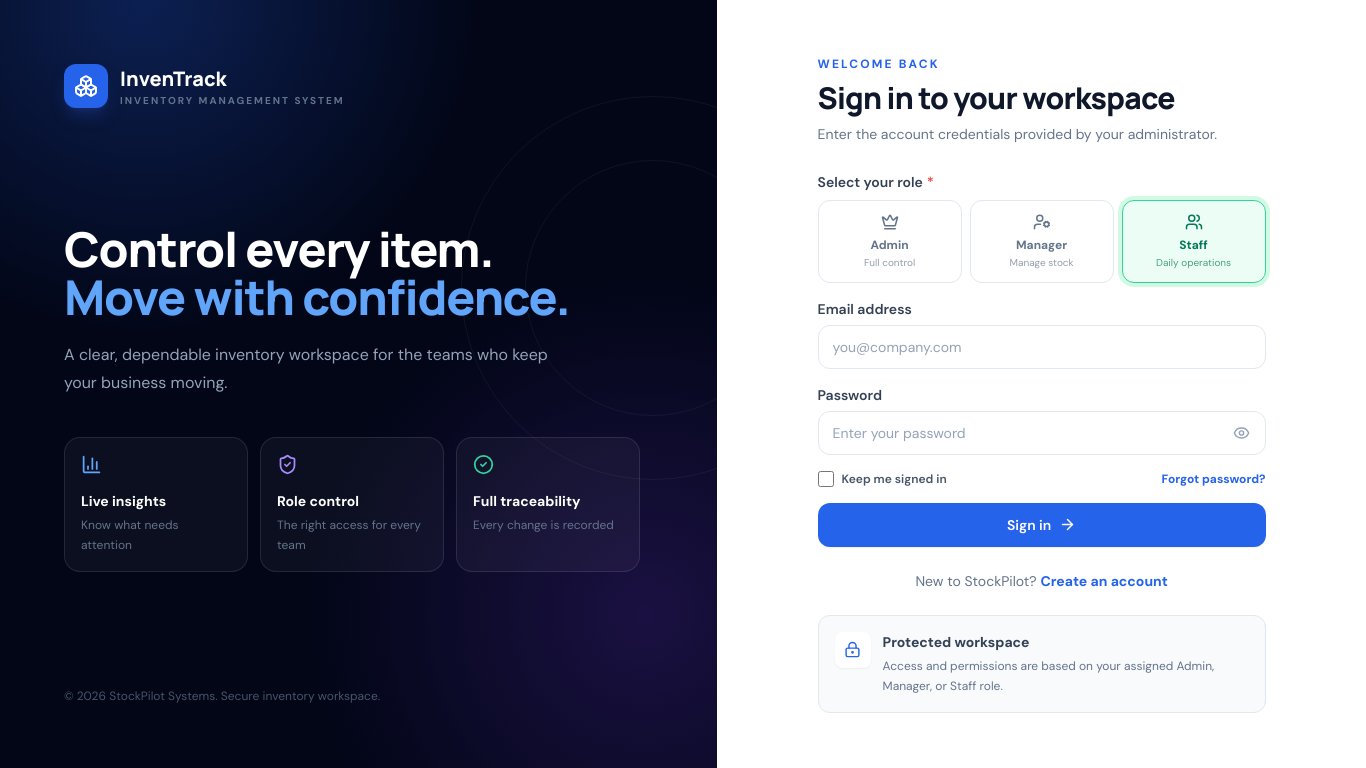
Test: StockPilot UI workflows › enforces Staff read-only catalog navigation
Expected: the heading "Sign in to your workspace" is shown, [818,76,1175,118]
Type "staff@ims.io" into the field labelled "Email address" at point(1042, 346), box [818,324,1266,368]
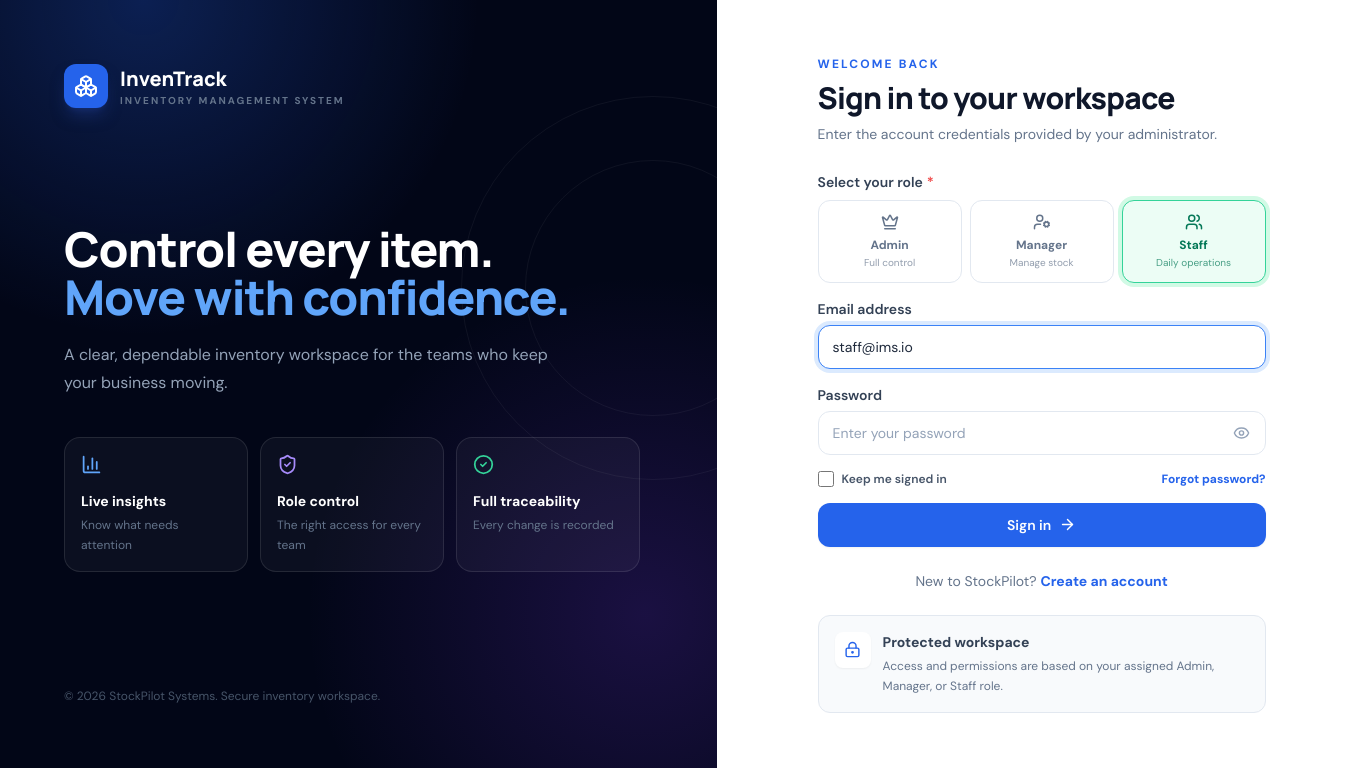
Type "staff123" into the password field labelled "Password" at point(1042, 432), box [818,410,1266,454]
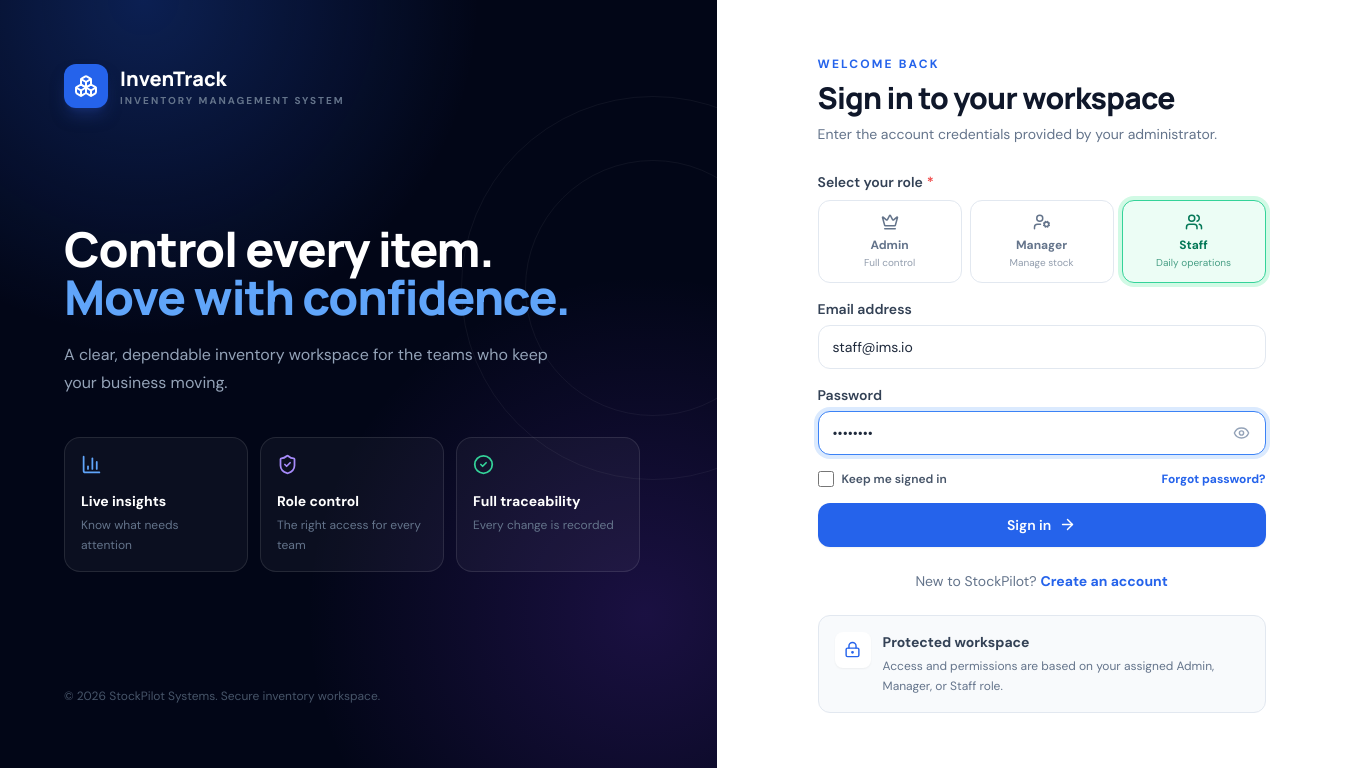
Click the checkbox labelled "Keep me signed in" at point(826, 478), box [818,470,834,486]
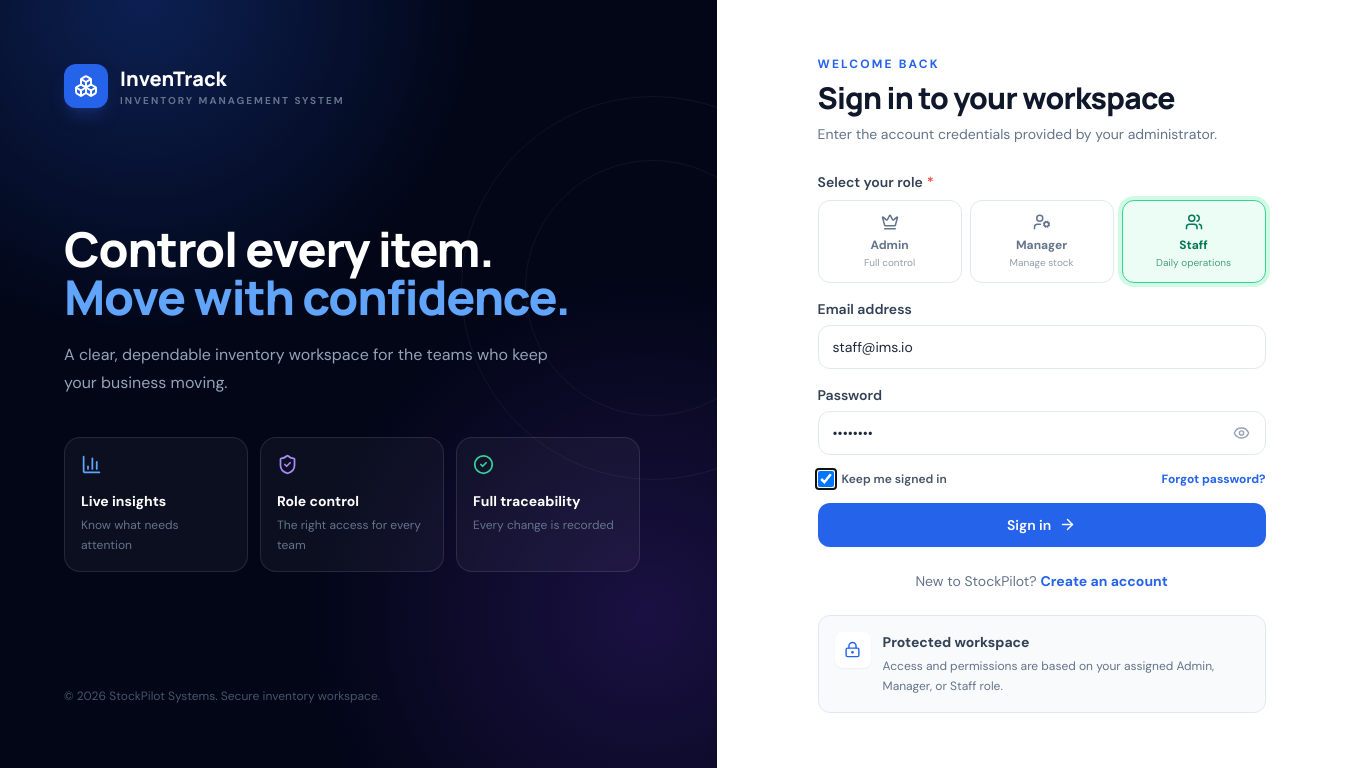
Click the button "Sign in" at point(1042, 524), box [818,502,1266,546]
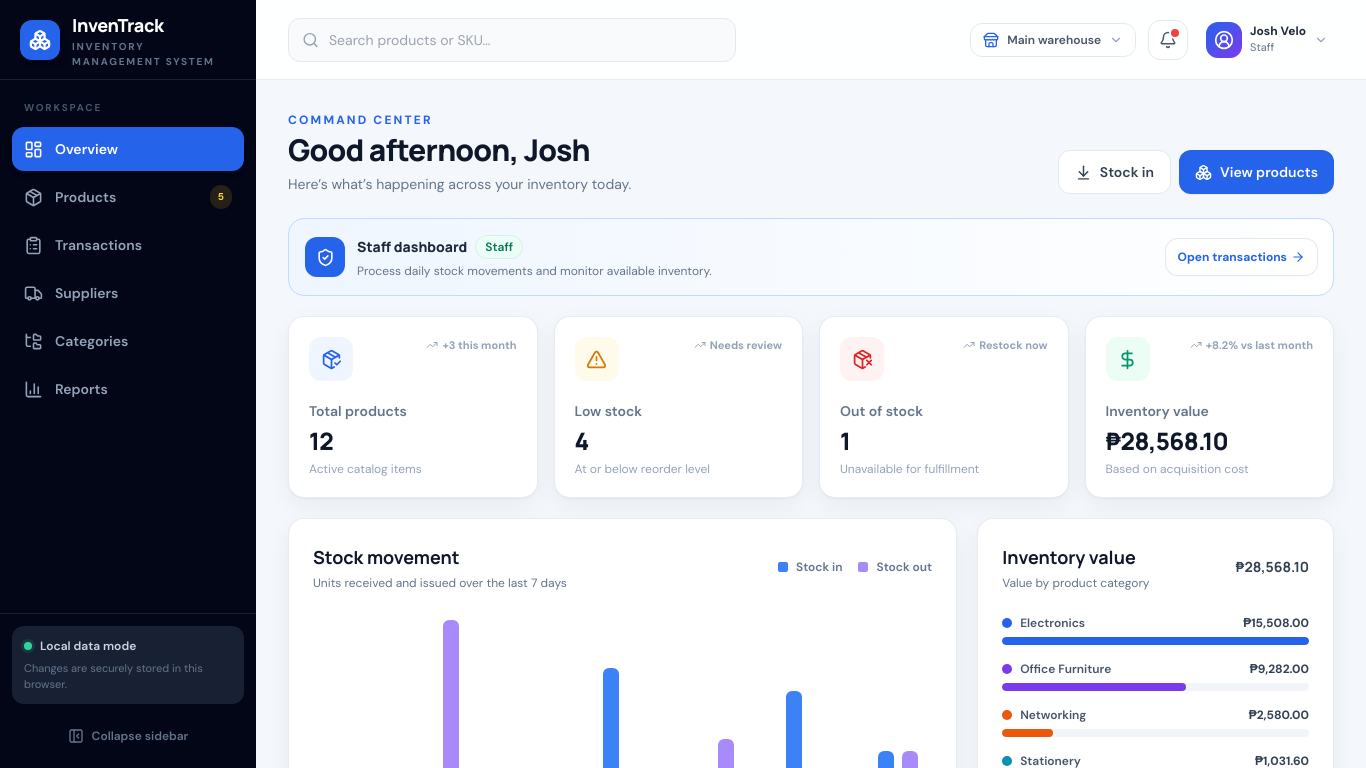
Expected: the heading "Good afternoon, Josh" is shown, [288,132,631,168]
Click the link "Products 5" at point(86, 197), box [24,185,232,209]
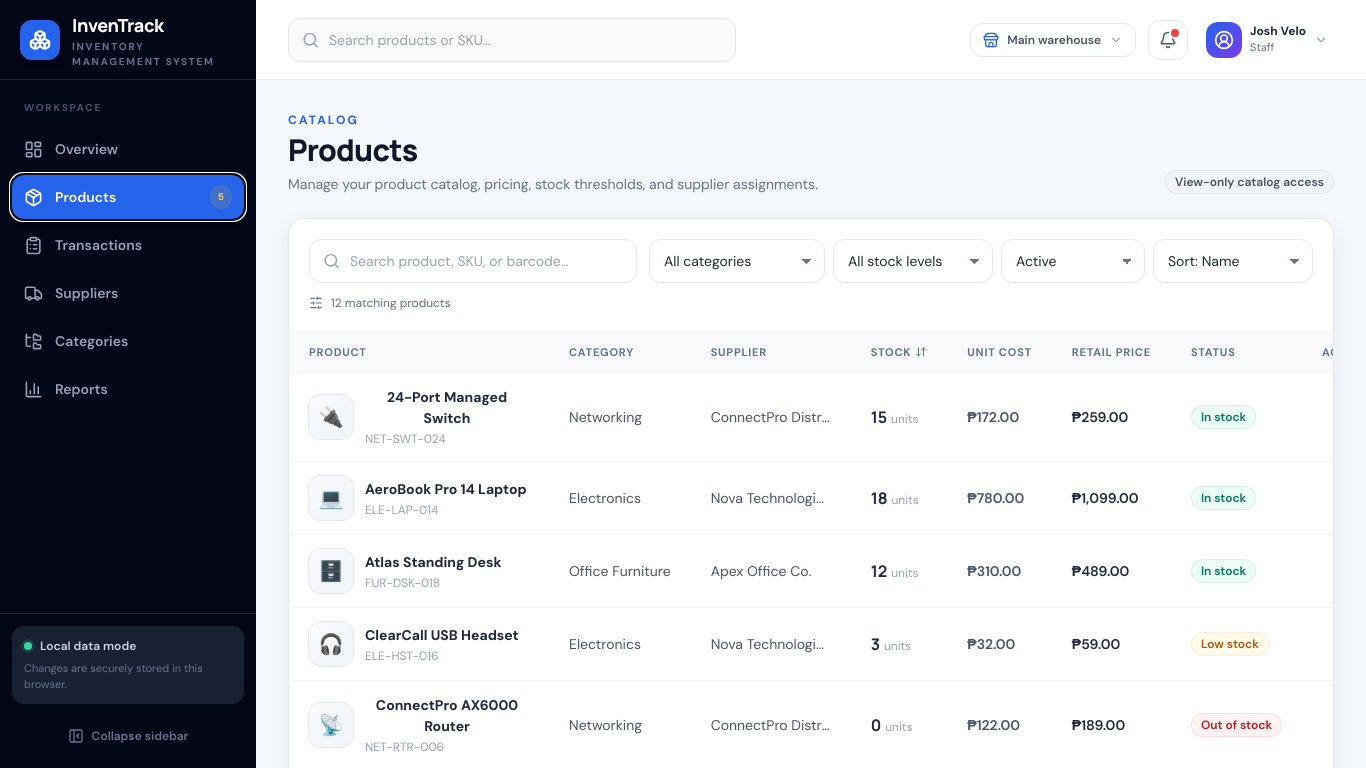
Expected: the text "View-only catalog access" is shown, [1165,170,1334,194]
